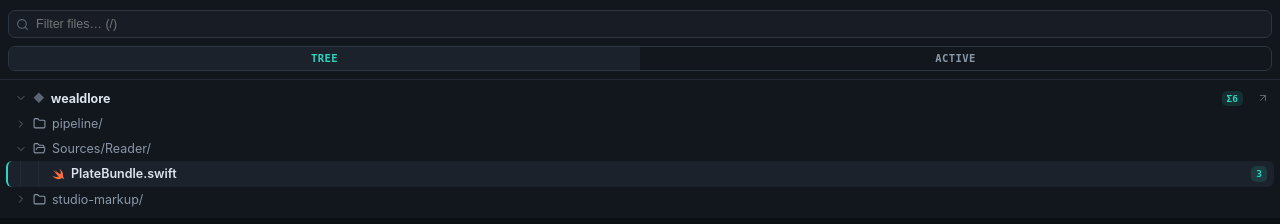
CodeTree — repo rollup selection (design/44 §6 item 2.4) › the expand/collapse chevron still toggles the tree without touching activeRepo/viewMode
The image size is (1280, 224).
Click the button "◆ wealdlore Σ6" at (81, 98), box [6,86,1250,111]
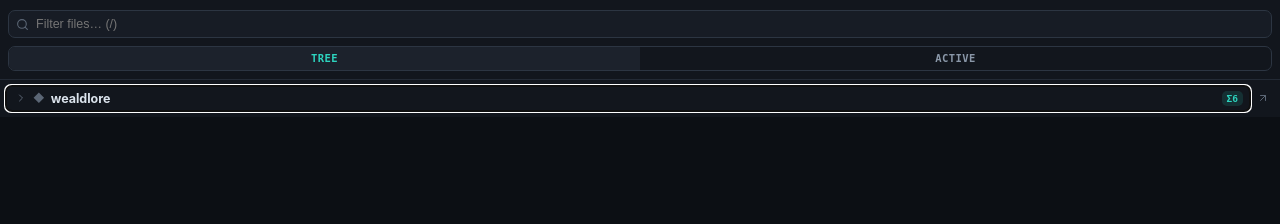
Check: the button "PlateBundle.swift" is gone
